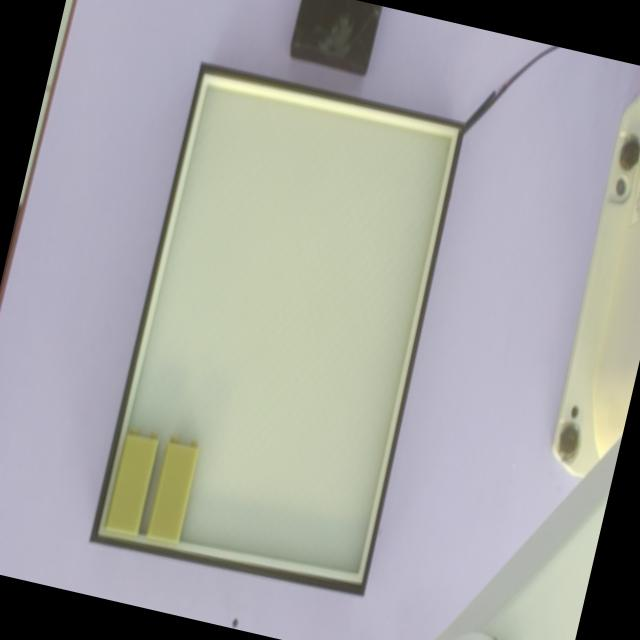bateria: (146, 439, 199, 543), (106, 429, 159, 533)
mesa: (90, 63, 465, 597)
